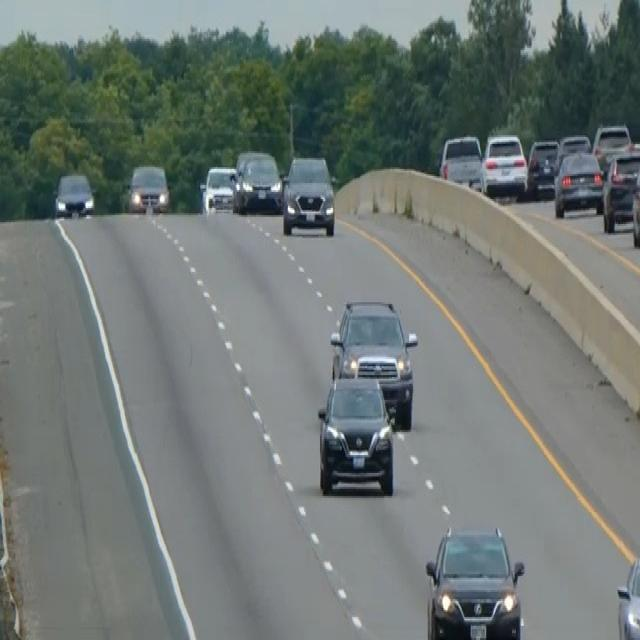car: (424, 521, 525, 638), (553, 147, 604, 217), (601, 146, 638, 233), (232, 150, 282, 213), (481, 130, 527, 197), (438, 132, 483, 188), (127, 162, 170, 213), (591, 121, 632, 174), (526, 137, 559, 197), (53, 170, 94, 218), (616, 555, 639, 638), (199, 164, 236, 214), (555, 132, 591, 167), (631, 162, 639, 245)
jeep: (328, 295, 418, 430), (315, 370, 396, 498), (281, 153, 336, 236)
